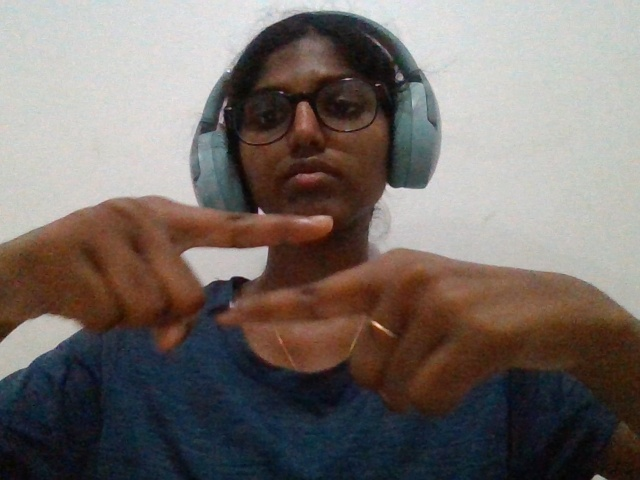Sign: (4, 162, 636, 431)
